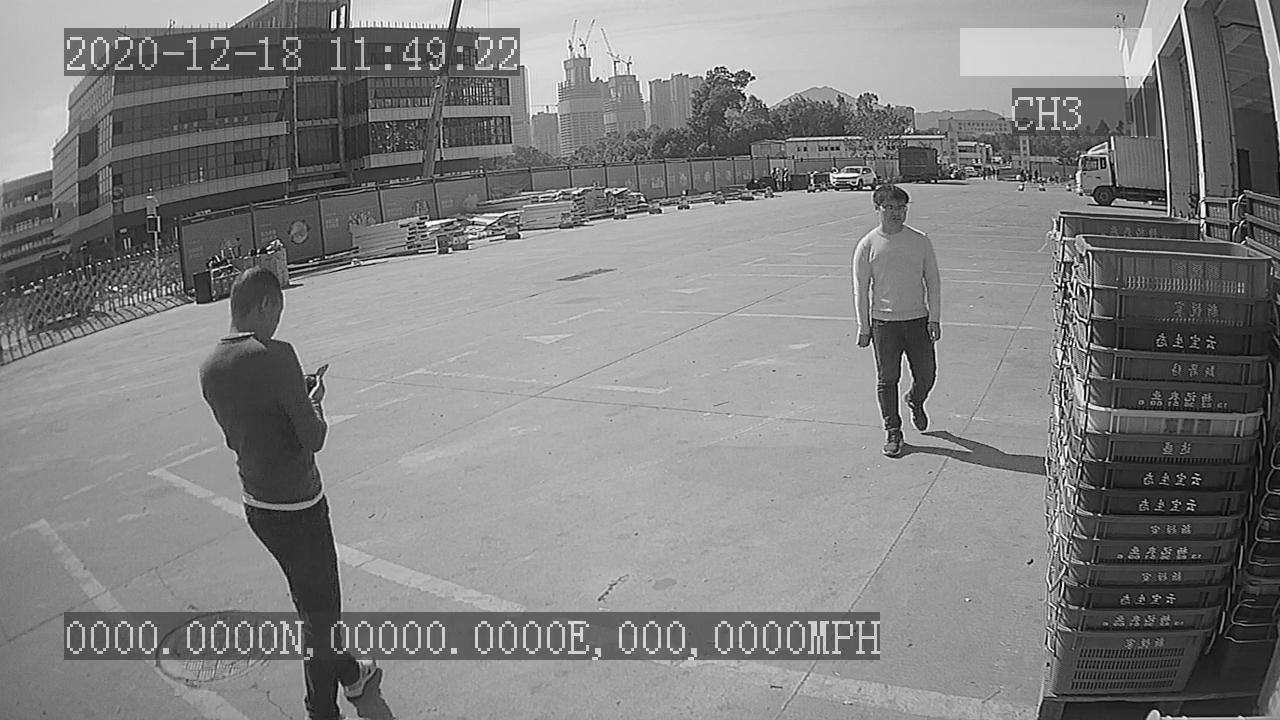person: (847, 179, 947, 463)
